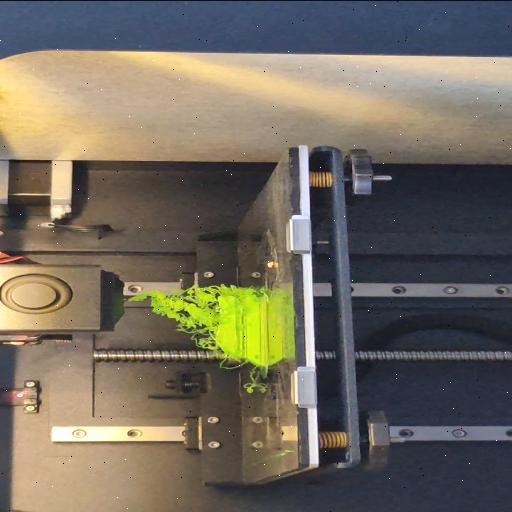spaghetti: (130, 284, 220, 352), (244, 368, 261, 396), (222, 285, 264, 296), (217, 357, 244, 370)
